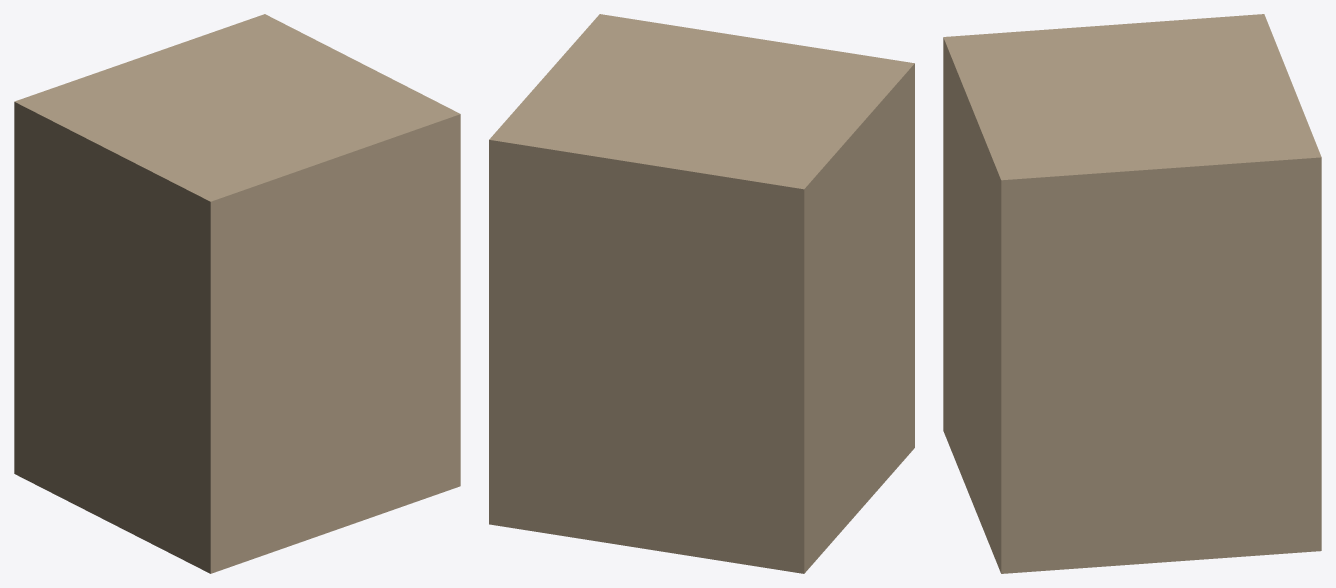
The model's file is bld_107639185.dae.
The picture shows the model from 3 angles, left to right: view 1: azimuth 30°, elevation 25°; view 2: azimuth 150°, elevation 25°; view 3: azimuth 270°, elevation 25°; orthographic projection. The views are drawn at different scales.
Visible parts, largest first — view 1: bld_107639185; view 2: bld_107639185; view 3: bld_107639185.
Part boxes in pixels (box(x1,y1,x2,y2)): bld_107639185: box(14, 14, 460, 573); bld_107639185: box(489, 14, 914, 573); bld_107639185: box(943, 14, 1321, 573).
Bounding box in the file's own units: 7.25 × 6.97 × 8.
